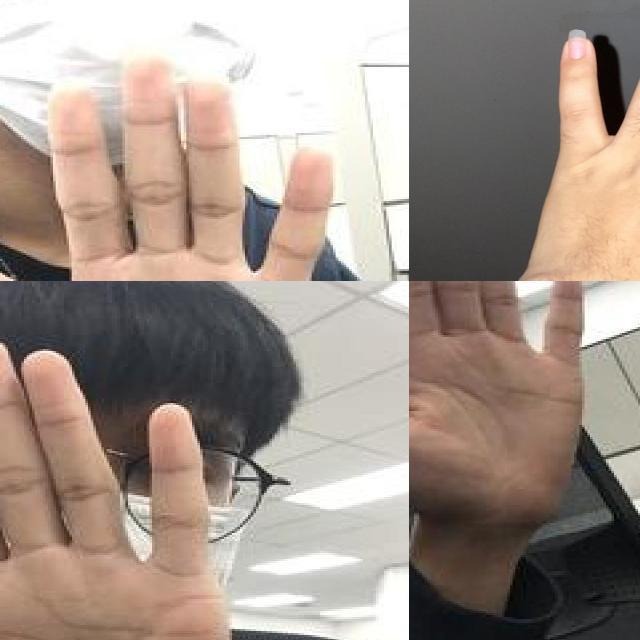hand: (0, 45, 333, 281), (0, 337, 243, 640), (409, 281, 595, 523), (499, 8, 640, 281)
